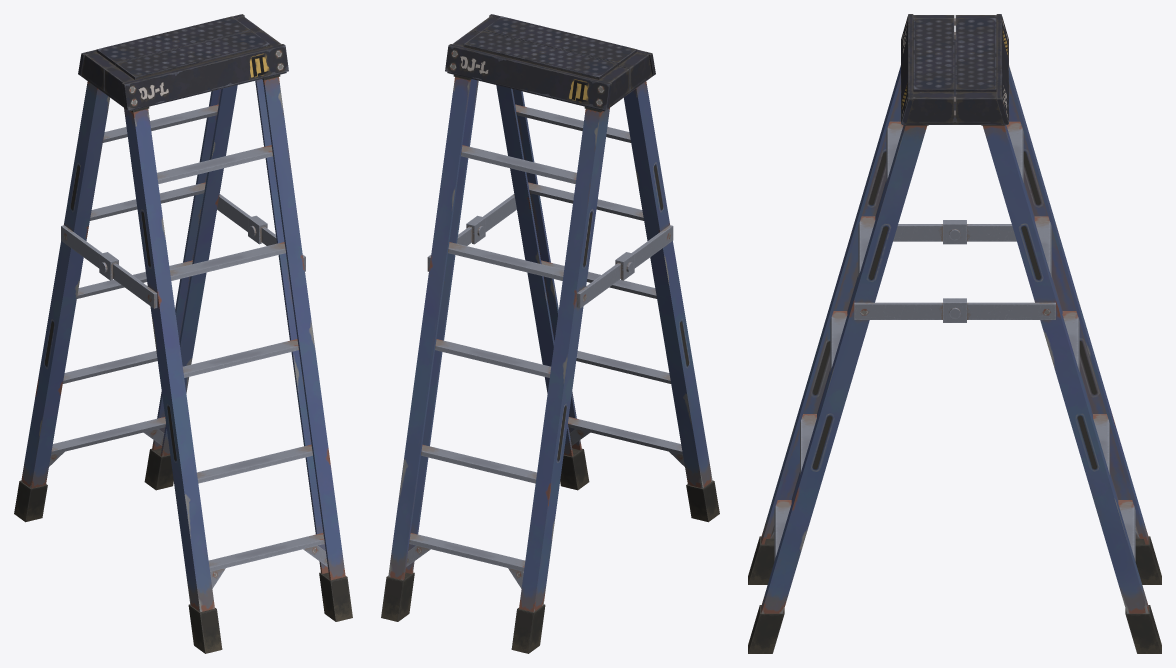
Rendered from P_FoldingLadder_002_S1_M01.obj.
The picture shows the model from 3 angles, left to right: view 1: azimuth 30°, elevation 25°; view 2: azimuth 150°, elevation 25°; view 3: azimuth 270°, elevation 25°; orthographic projection. The views are drawn at different scales.
Bounding box in the file's own units: 0.7448 × 2.29 × 1.53.
Materials: 1 (1 with a texture image).
